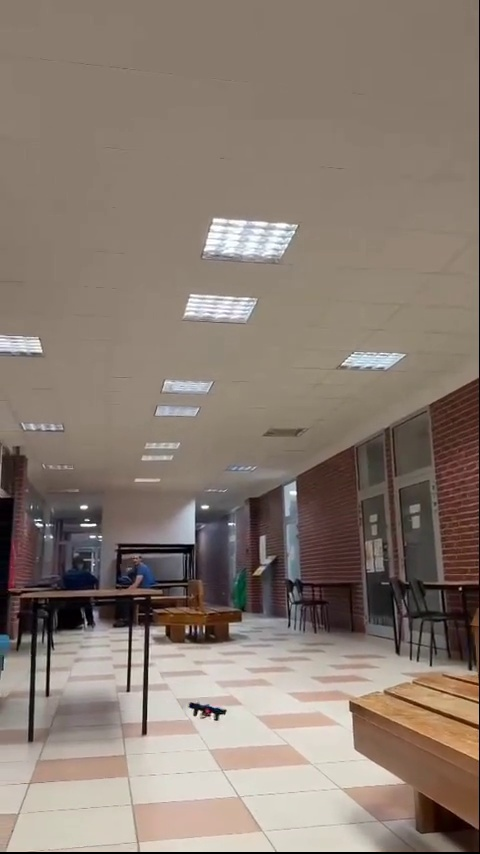drone: (189, 702, 226, 722)
no vest: (122, 548, 164, 604), (63, 550, 95, 602)
